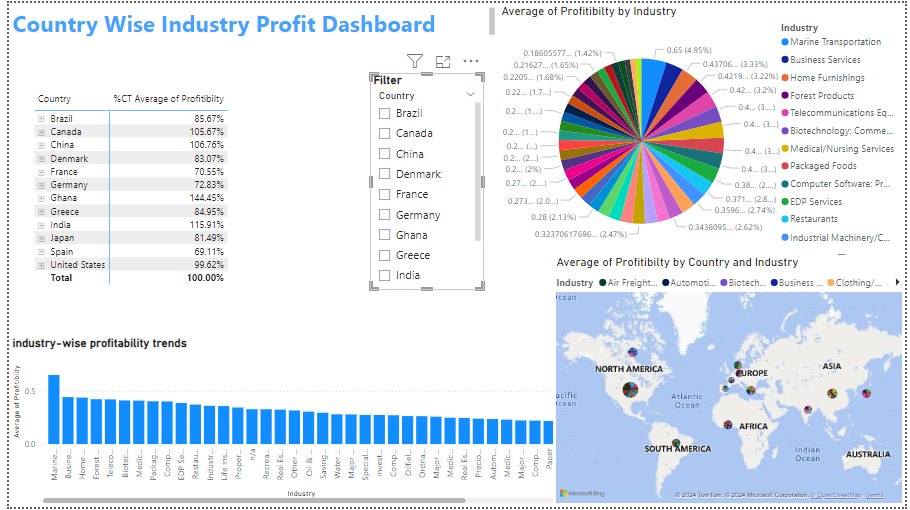

The dashboard page shown, as its layout file describes it:
{"tool":"powerbi","page":{"name":"Page 2","canvas":[1280,720],"ordinal":1},"visuals":[{"type":"slicer","title":"Filter","fields":{"Values":["Accounts.Country"]},"box":[515.7,100,162.9,310],"z":0},{"type":"pieChart","fields":{"Category":["Industry.Industry"],"Y":["Avg(Opportunities.Profitibilty)"]},"box":[698.6,1.4,581.4,372.9],"z":1000},{"type":"lineStackedColumnComboChart","title":"industry-wise profitability trends","fields":{"Category":["Industry.Industry"],"Y":["Avg(Opportunities.Profitibilty)"]},"box":[0,475.7,792.9,244.3],"z":2000},{"type":"map","fields":{"Category":["Accounts.Country"],"Series":["Industry.Industry"],"Size":["Avg(Opportunities.Profitibilty)"]},"box":[777.1,360,502.9,360],"z":3000},{"type":"pivotTable","fields":{"Rows":["Accounts.Country","Industry.Industry"],"Values":["Sum(Opportunities.Profitibilty)"]},"box":[31.4,121.4,315.7,310],"z":4000},{"type":"textbox","box":[0,1.4,698.6,51.4],"z":4001}]}

Visuals, with their boxes in screenshot pixels (x1, y1, x2, y2), scaled from the page's 1280x720 canvas onto the 910x510 screenshot:
"Filter" slicer: [left=367, top=71, right=482, bottom=290]
pieChart - Industry.Industry x Avg(Opportunities.Profitibilty): [left=497, top=1, right=909, bottom=265]
"industry-wise profitability trends" lineStackedColumnComboChart: [left=0, top=337, right=564, bottom=509]
map - Accounts.Country x Industry.Industry: [left=552, top=255, right=909, bottom=509]
pivotTable - Accounts.Country x Industry.Industry: [left=22, top=86, right=247, bottom=306]
textbox: [left=0, top=1, right=497, bottom=37]
